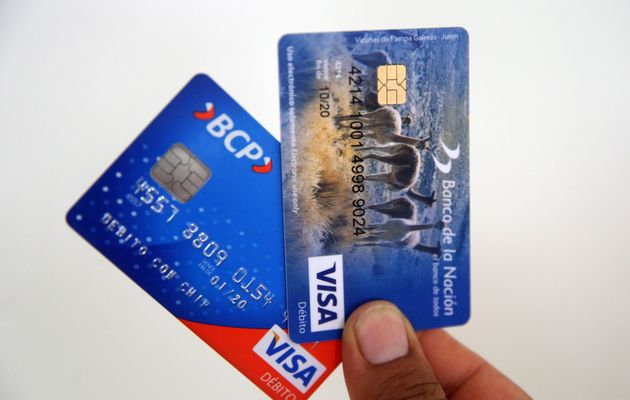tarjeta: (64, 73, 344, 400), (278, 26, 472, 346)
